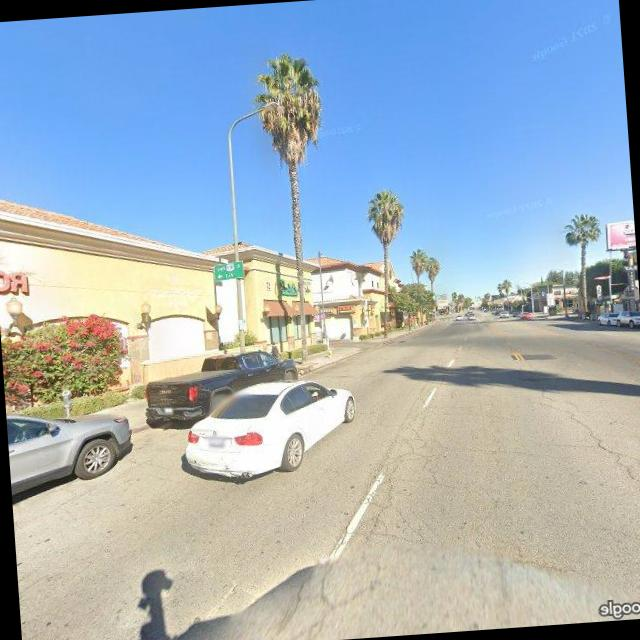crack: (334, 375, 474, 548), (244, 559, 397, 640)
pothole: (542, 375, 640, 584)
